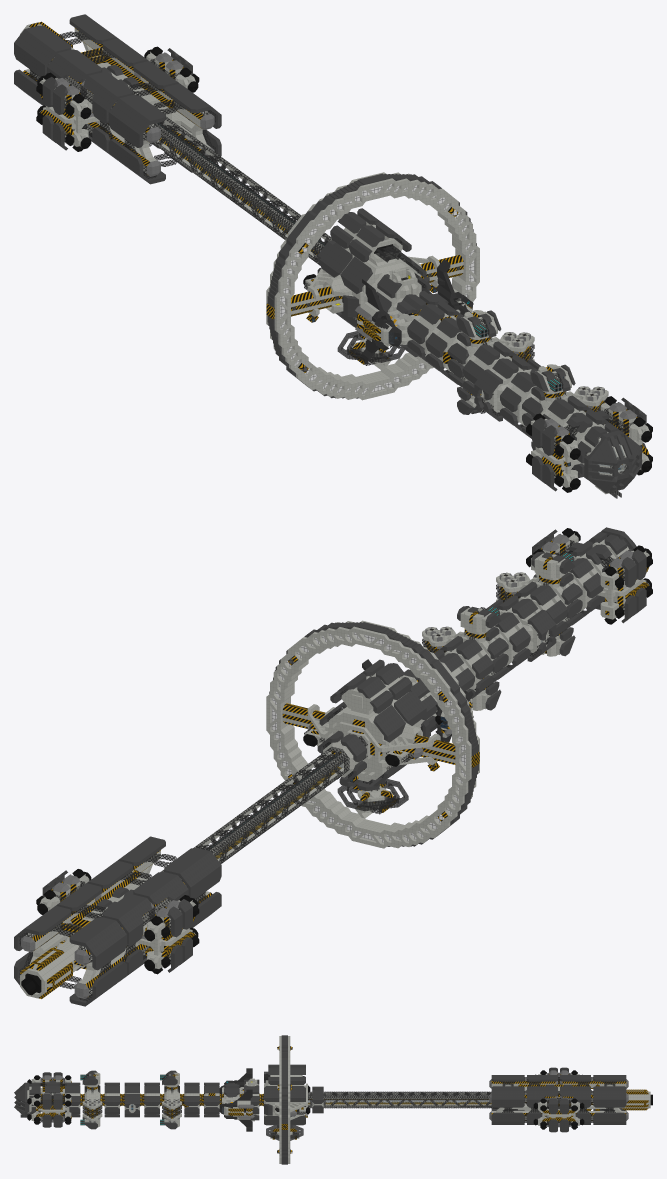
File: cruiser.glb
The picture shows the model from 3 angles, top to bottom: view 1: azimuth 30°, elevation 25°; view 2: azimuth 150°, elevation 25°; view 3: azimuth 270°, elevation 25°; orthographic projection. The views are drawn at different scales.
Parts seen in each view (by area): view 1: Object_5, Object_11; view 2: Object_5; view 3: Object_5, Object_11, Object_10.
Boxes of the visible parts, x1,y1,x2,y2 form: Object_5: (14, 14, 652, 498); Object_11: (157, 122, 621, 498); Object_5: (14, 527, 652, 1006); Object_5: (14, 1035, 652, 1164); Object_11: (21, 1068, 252, 1131); Object_10: (80, 1074, 234, 1125).
Size of the model in its own units: 58 by 57.51 by 289.
5 materials, 5 textured.
